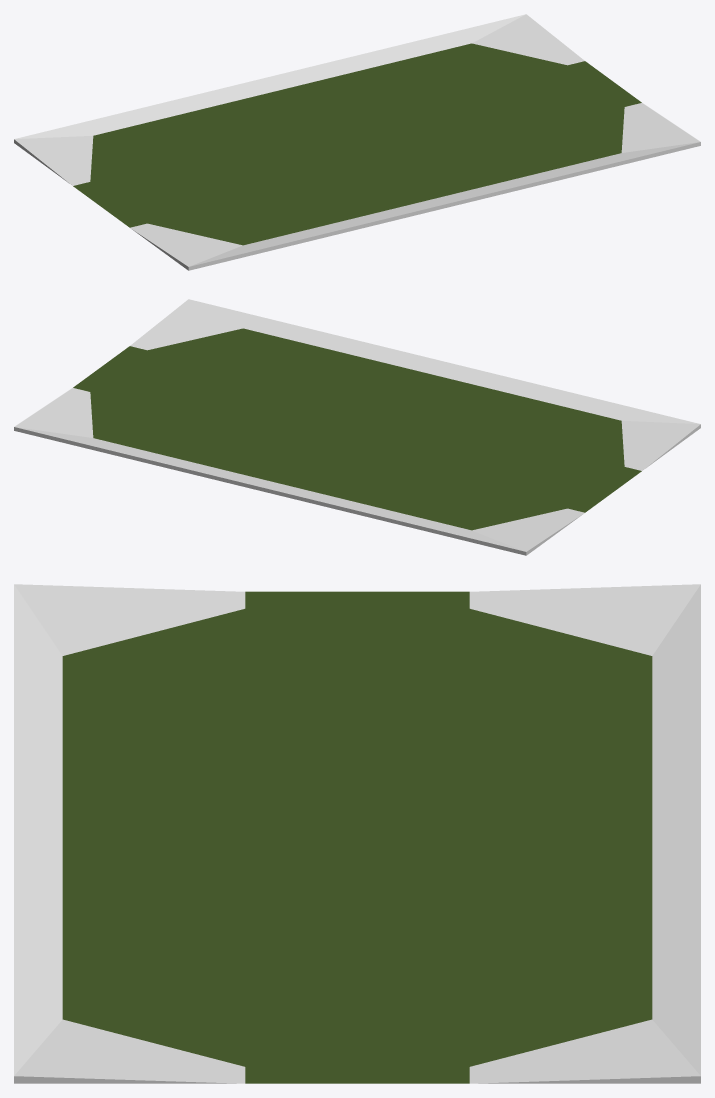
The model's file is 200720_KickerVR_field.fbx.
3 renders of one model, top to bottom at view 1: azimuth 30°, elevation 25°; view 2: azimuth 150°, elevation 25°; view 3: azimuth 270°, elevation 25°, orthographic. The views are drawn at different scales.
Visible parts, largest first — view 1: Cube; view 2: Cube; view 3: Cube.
Boxes of the visible parts, box(x1,y1,x2,y2) form: Cube: box(14, 14, 700, 270); Cube: box(14, 299, 700, 555); Cube: box(14, 584, 700, 1083).
Size of the model in its own units: 122 by 0.8801 by 72.
